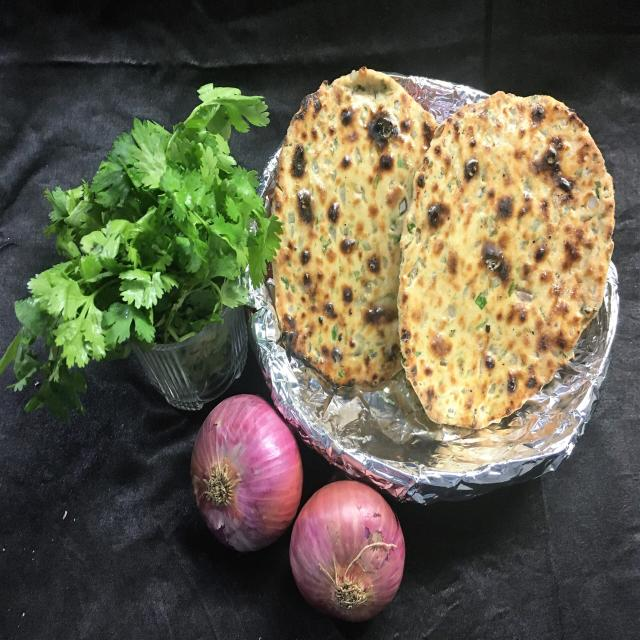ROTI: (398, 92, 614, 427), (266, 69, 436, 386)
